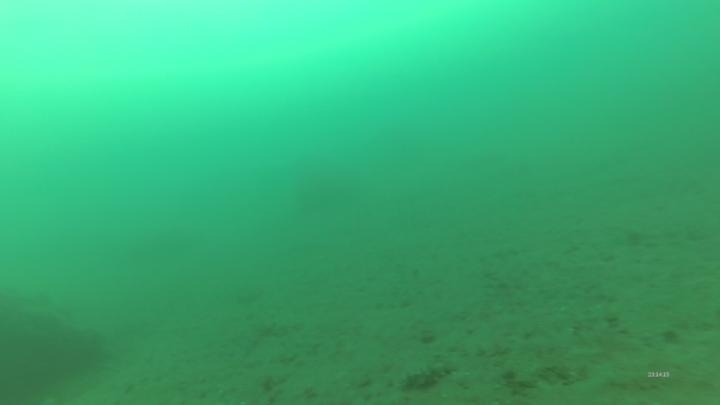holothurian: (400, 357, 459, 393)
